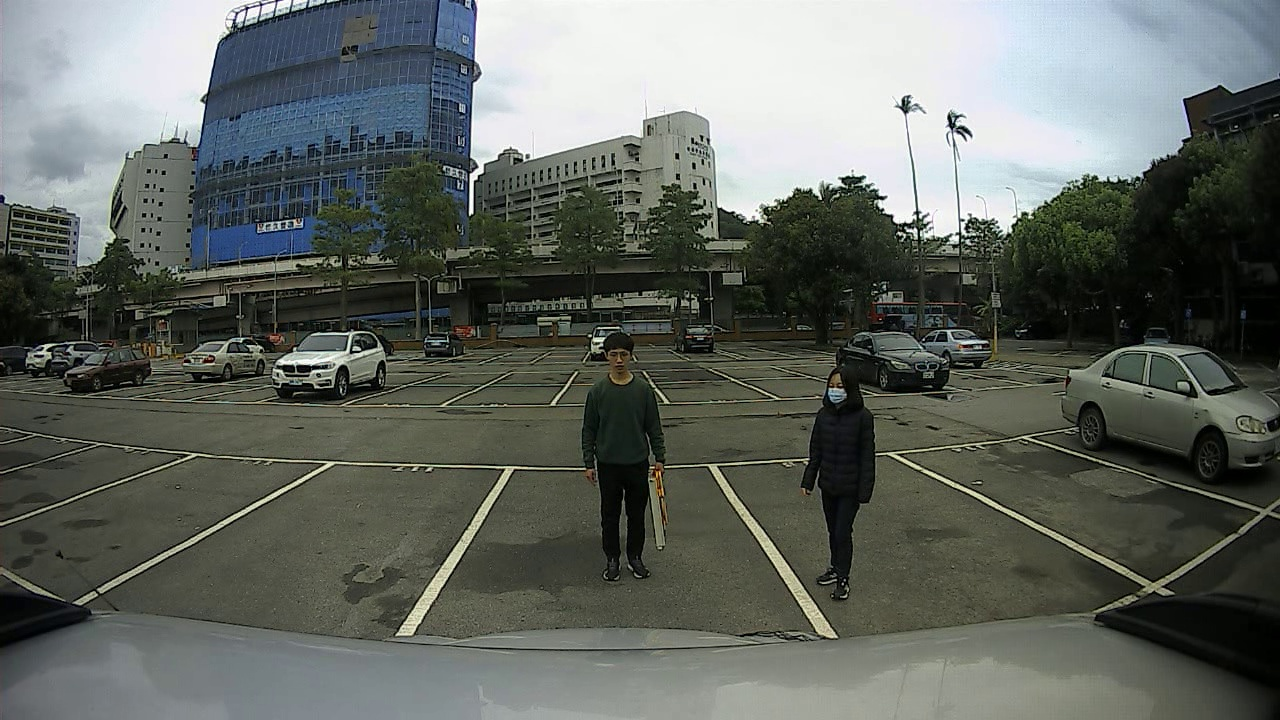car: (1056, 328, 1280, 489), (18, 321, 147, 403), (264, 322, 393, 404), (839, 322, 954, 403), (170, 327, 266, 390), (407, 321, 474, 370), (666, 310, 733, 359)
person: (563, 333, 678, 594), (782, 342, 897, 603)
